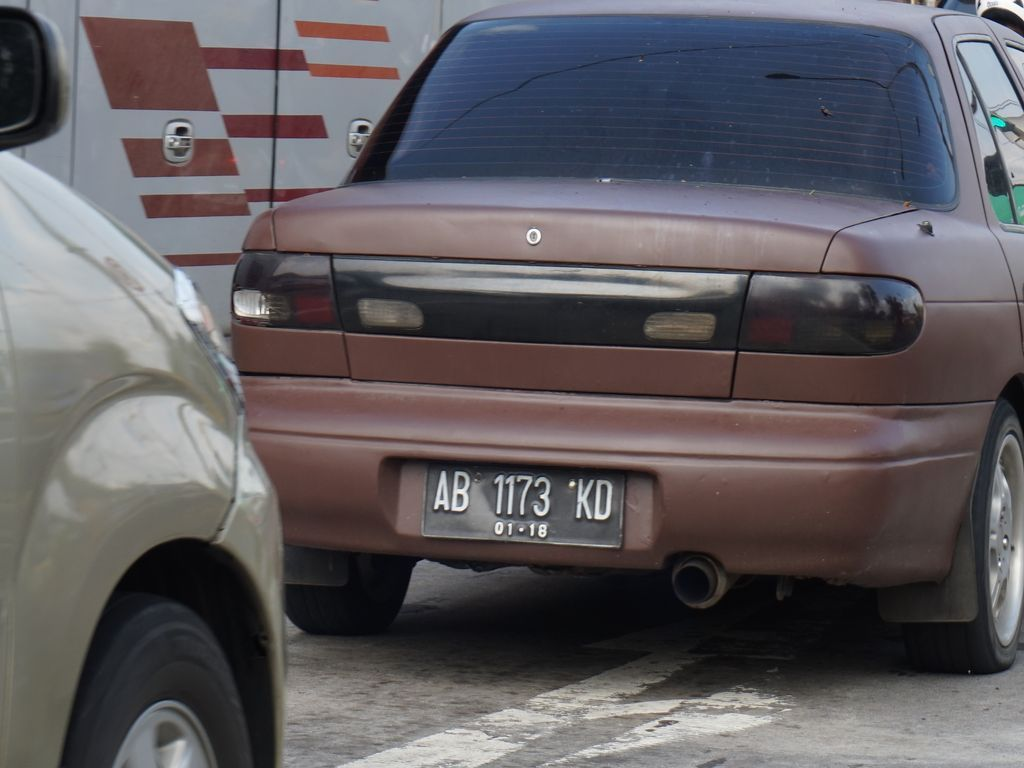plate: (430, 471, 614, 536)
